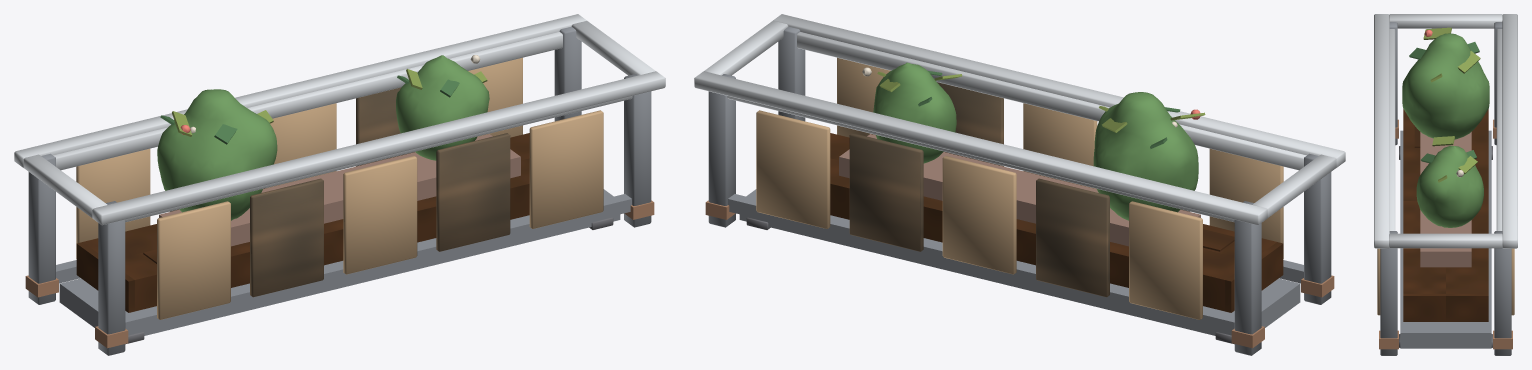
The model's file is Planter_Street.fbx.
The picture shows the model from 3 angles, left to right: view 1: azimuth 30°, elevation 25°; view 2: azimuth 150°, elevation 25°; view 3: azimuth 270°, elevation 25°; orthographic projection. The views are drawn at different scales.
Visible parts, largest first — view 1: LOD0; view 2: LOD0; view 3: LOD0.
Boxes of the visible parts, <box> form: LOD0: <box>14,14,665,355</box>; LOD0: <box>694,14,1345,355</box>; LOD0: <box>1374,14,1517,355</box>.
Size of what is drawn, in the model's own units: 188 by 63.67 by 50.5.
